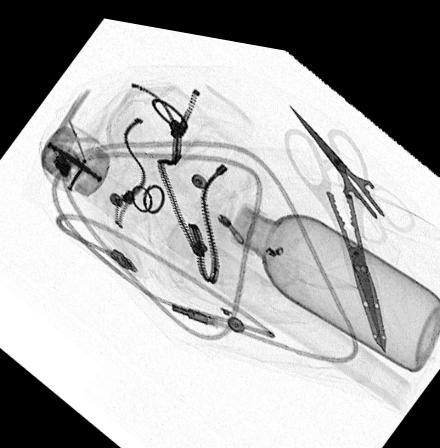Scissors: (280, 114, 393, 337), (284, 91, 420, 234)
